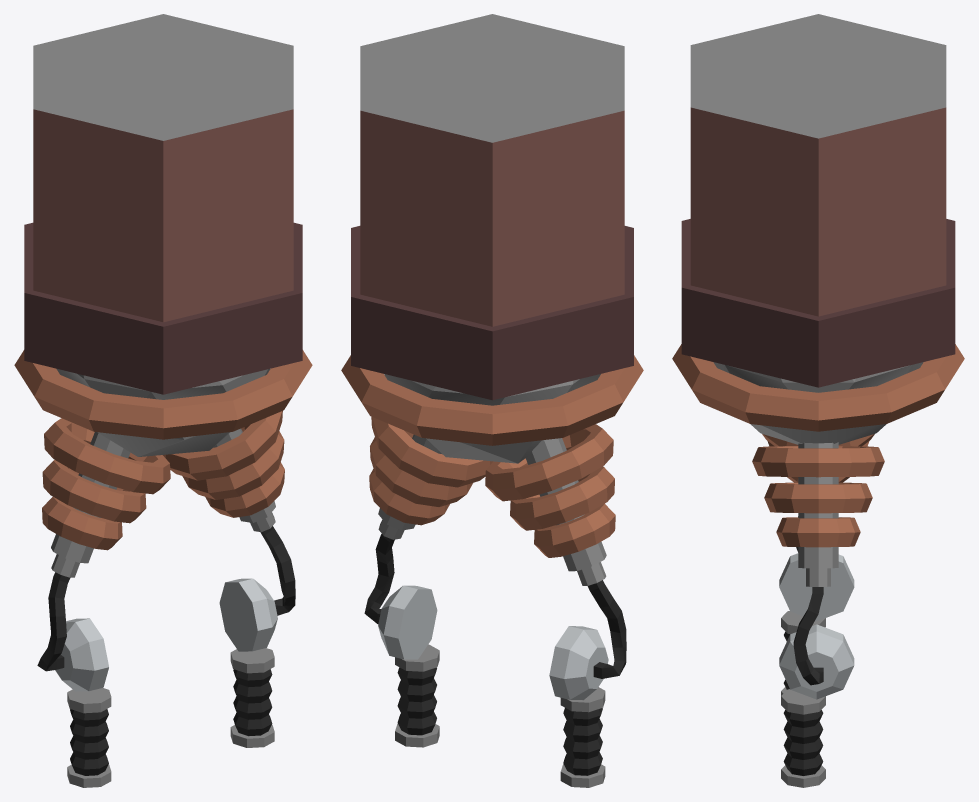
The model's file is FuseDock (1).fbx.
The picture shows the model from 3 angles, left to right: view 1: azimuth 30°, elevation 25°; view 2: azimuth 150°, elevation 25°; view 3: azimuth 270°, elevation 25°; orthographic projection. The views are drawn at different scales.
Visible parts, largest first — view 1: FuseDock__1_; view 2: FuseDock__1_; view 3: FuseDock__1_.
Boxes of the visible parts, x1,y1,x2,y2 form: FuseDock__1_: [14, 14, 312, 787]; FuseDock__1_: [341, 14, 643, 787]; FuseDock__1_: [672, 14, 964, 787].
Bounding box in the file's own units: 324 × 750 × 300.
